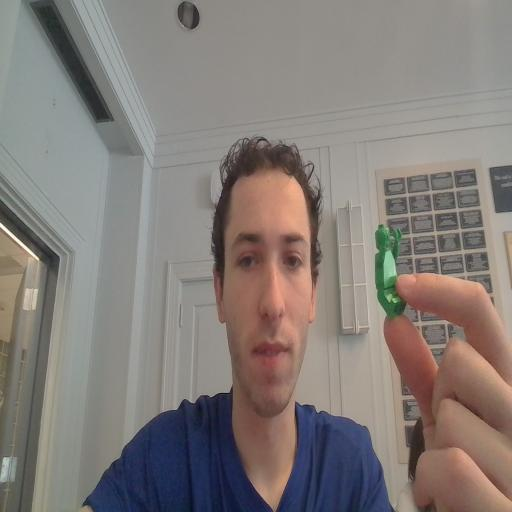green LEGO minifig: (370, 218, 410, 328)
